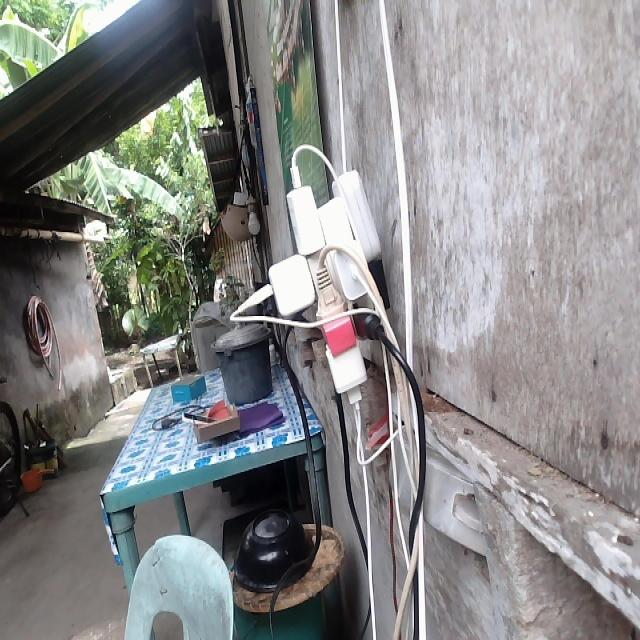-: (245, 165, 392, 407)
